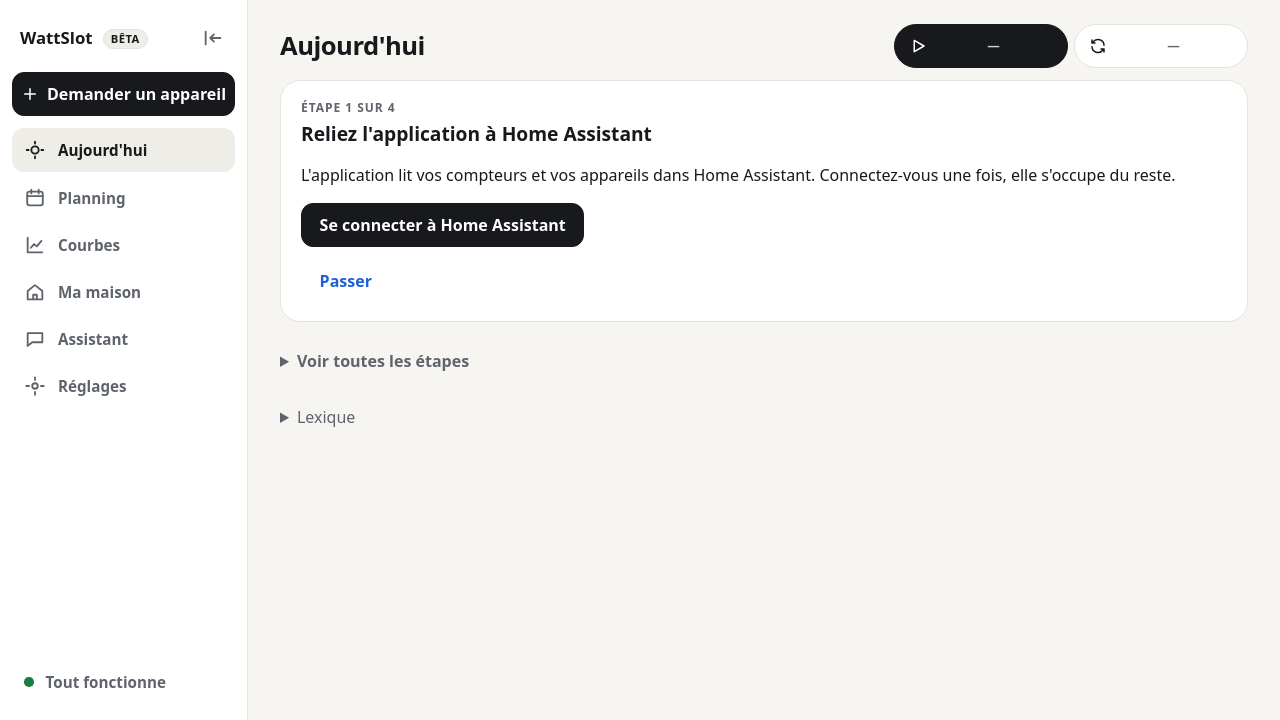
Scenario: barre de l'application › dit quand aucun appareil ne se lance à la demande
Click the button "Demander un appareil" at (124, 94), box [12,72,235,116]
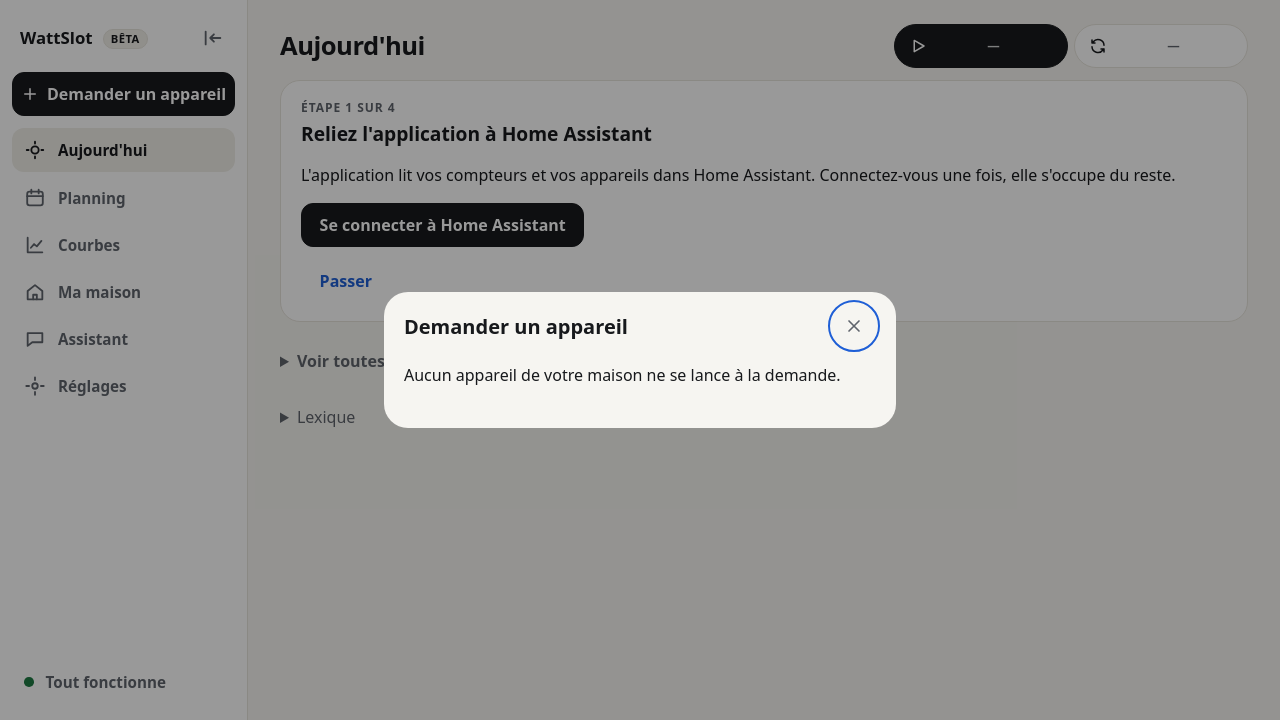
Expected: the text "Aucun appareil de votre maison ne se lance à la demande." is shown, [404,364,876,388]
